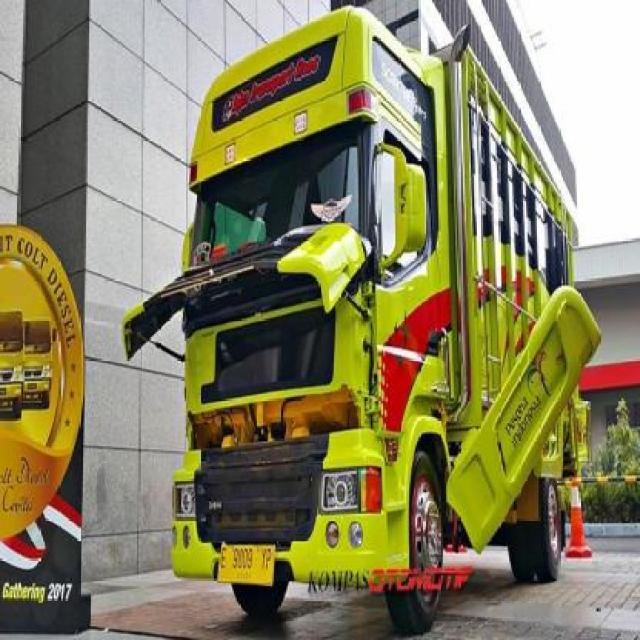truck: (125, 1, 577, 630)
